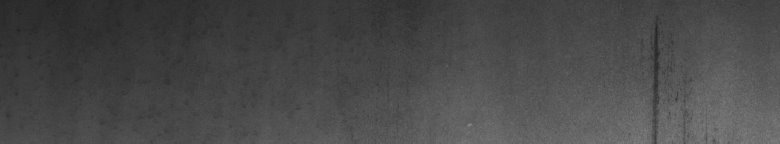ka: (641, 16, 693, 136)
